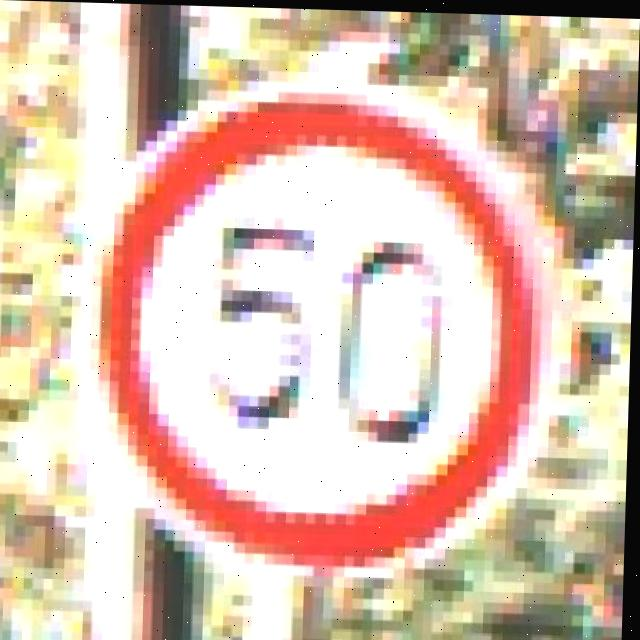Speed limit 50: (97, 93, 556, 571)
